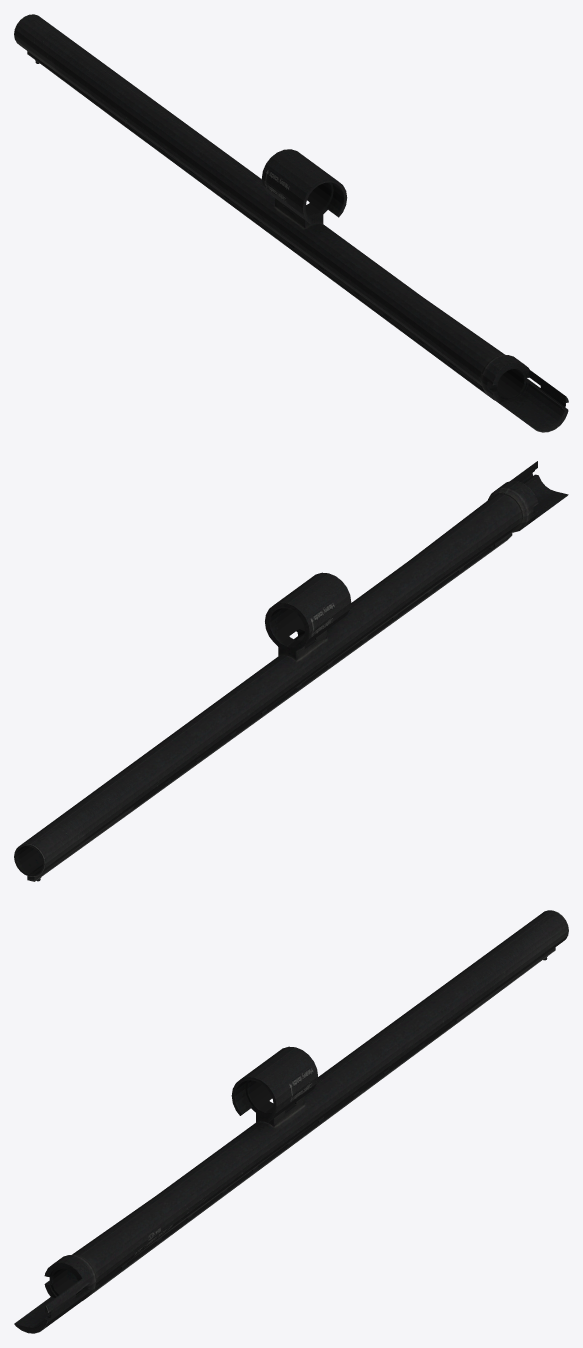
3 renders of one model, top to bottom at view 1: azimuth 30°, elevation 25°; view 2: azimuth 150°, elevation 25°; view 3: azimuth 330°, elevation 25°, orthographic.
Parts seen in each view (by area): view 1: TW_588200af24597742fa221dfb_PZ_Import; view 2: TW_588200af24597742fa221dfb_PZ_Import; view 3: TW_588200af24597742fa221dfb_PZ_Import.
Part boxes in pixels (x1,y1,x2,y2): TW_588200af24597742fa221dfb_PZ_Import: (14,14,568,432); TW_588200af24597742fa221dfb_PZ_Import: (14,461,568,881); TW_588200af24597742fa221dfb_PZ_Import: (14,910,568,1333).
Bounding box in the file's own units: 0.0182 × 0.3687 × 0.0368.
1 material, 1 textured.
